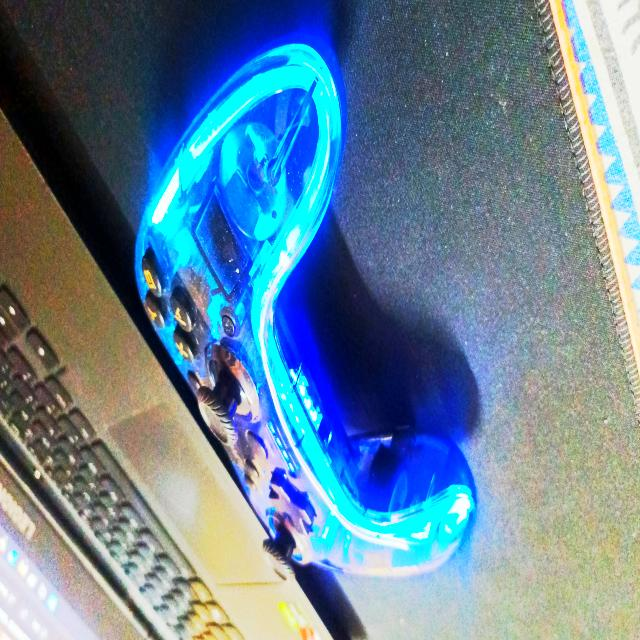gamepad: (133, 37, 478, 581)
